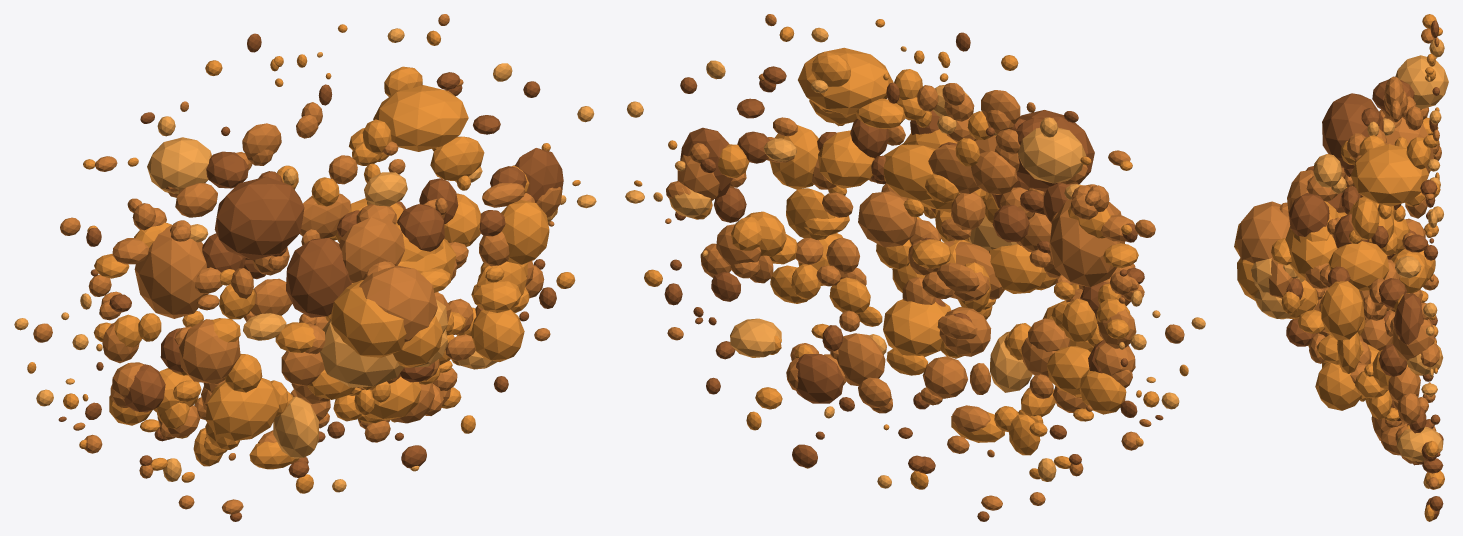
Rendered from iron_oxide.glb.
3 views of the same model, side by side, from view 1: azimuth 30°, elevation 25°; view 2: azimuth 150°, elevation 25°; view 3: azimuth 270°, elevation 25° (orthographic). The views are drawn at different scales.
Parts seen in each view (by area): view 1: Fe2O3_orange, Fe2O3_rust, Fe2O3_dark, Fe2O3_light; view 2: Fe2O3_orange, Fe2O3_rust, Fe2O3_dark, Fe2O3_light; view 3: Fe2O3_orange, Fe2O3_rust, Fe2O3_dark, Fe2O3_light.
Part boxes in pixels (x1=…): Fe2O3_orange: x1=27, y1=24, x2=580, y2=493; Fe2O3_rust: x1=33, y1=14, x2=562, y2=514; Fe2O3_dark: x1=58, y1=33, x2=563, y2=521; Fe2O3_light: x1=14, y1=28, x2=596, y2=492; Fe2O3_orange: x1=634, y1=19, x2=1188, y2=489; Fe2O3_rust: x1=665, y1=14, x2=1184, y2=510; Fe2O3_dark: x1=664, y1=32, x2=1163, y2=521; Fe2O3_light: x1=625, y1=27, x2=1205, y2=488; Fe2O3_orange: x1=1234, y1=14, x2=1444, y2=521; Fe2O3_rust: x1=1235, y1=28, x2=1441, y2=489; Fe2O3_dark: x1=1286, y1=20, x2=1443, y2=519; Fe2O3_light: x1=1251, y1=39, x2=1448, y2=488.
Size of the model in its own units: 2.7 by 2.15 by 0.9577.
